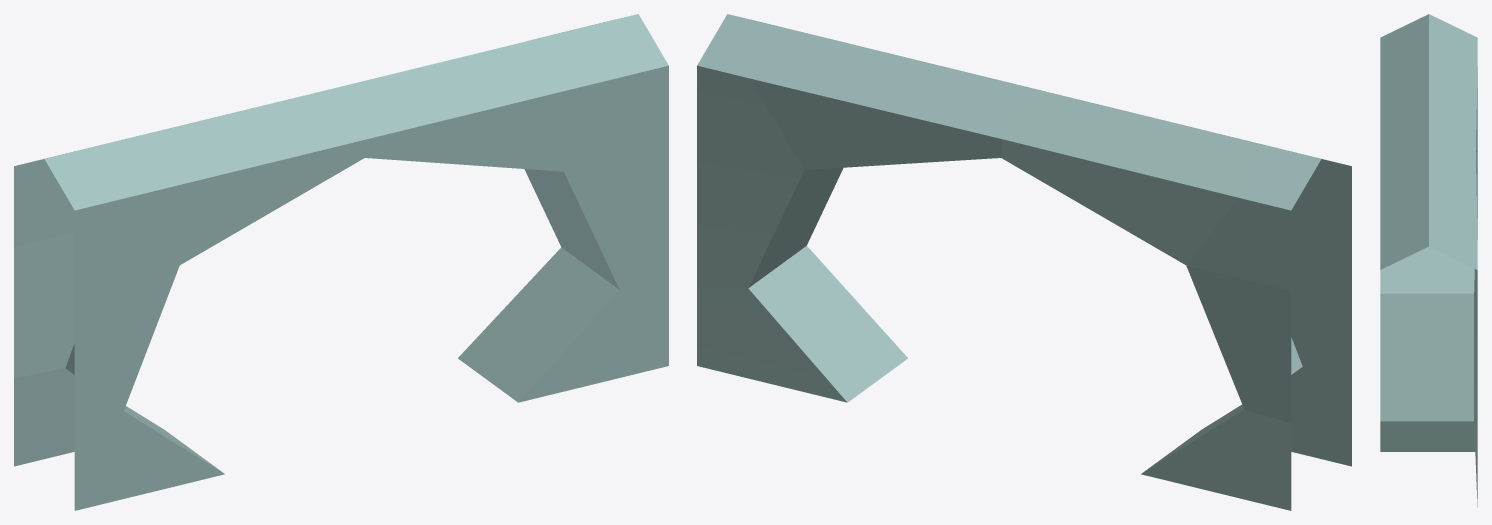
The model's file is BRailCorner.fbx.
3 renders of one model, left to right at view 1: azimuth 30°, elevation 25°; view 2: azimuth 150°, elevation 25°; view 3: azimuth 270°, elevation 25°, orthographic. The views are drawn at different scales.
Parts seen in each view (by area): view 1: BRailCorner; view 2: BRailCorner; view 3: BRailCorner.
Part boxes in pixels (x1,y1,x2,y2): BRailCorner: (14,14,668,510); BRailCorner: (697,14,1351,510); BRailCorner: (1380,14,1477,507).
Bounding box in the file's own units: 283 × 150 × 50.
